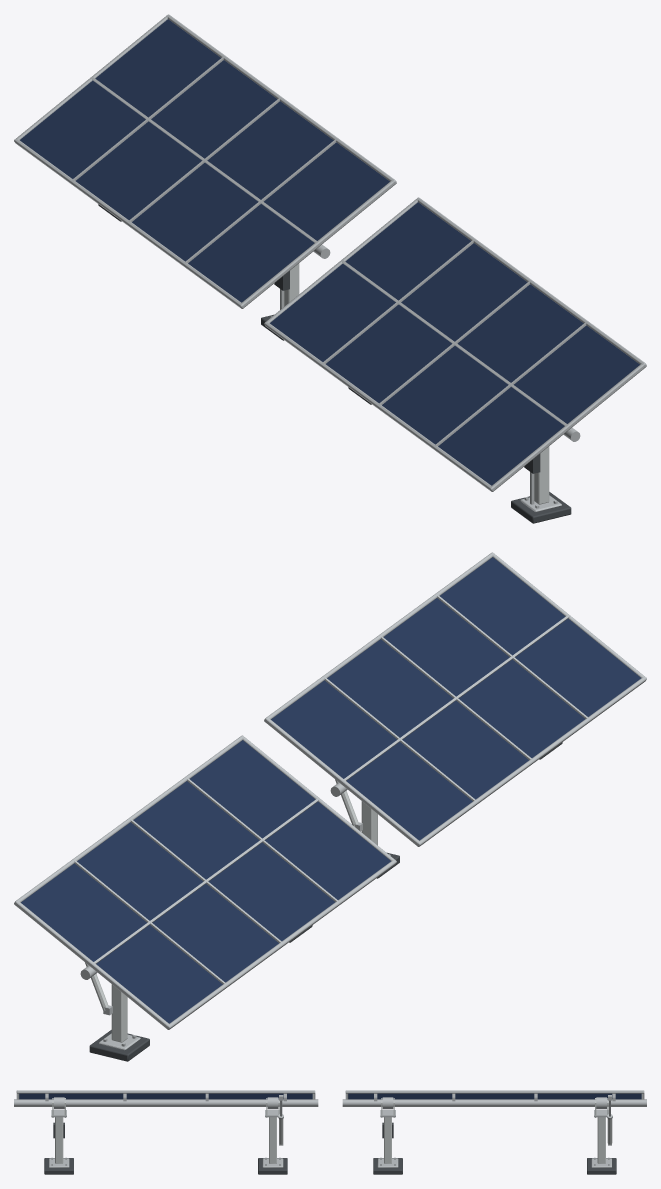
File: solar_row.glb
The picture shows the model from 3 angles, top to bottom: view 1: azimuth 30°, elevation 25°; view 2: azimuth 150°, elevation 25°; view 3: azimuth 270°, elevation 25°; orthographic projection. The views are drawn at different scales.
Visible parts, largest first — view 1: solar_row; view 2: solar_row; view 3: solar_row.
Boxes of the visible parts, bbox=[...] form: solar_row: bbox=[14, 14, 646, 523]; solar_row: bbox=[14, 552, 646, 1061]; solar_row: bbox=[14, 1090, 646, 1174].
Size of the model in its own units: 2.89 by 2.72 by 15.4.
